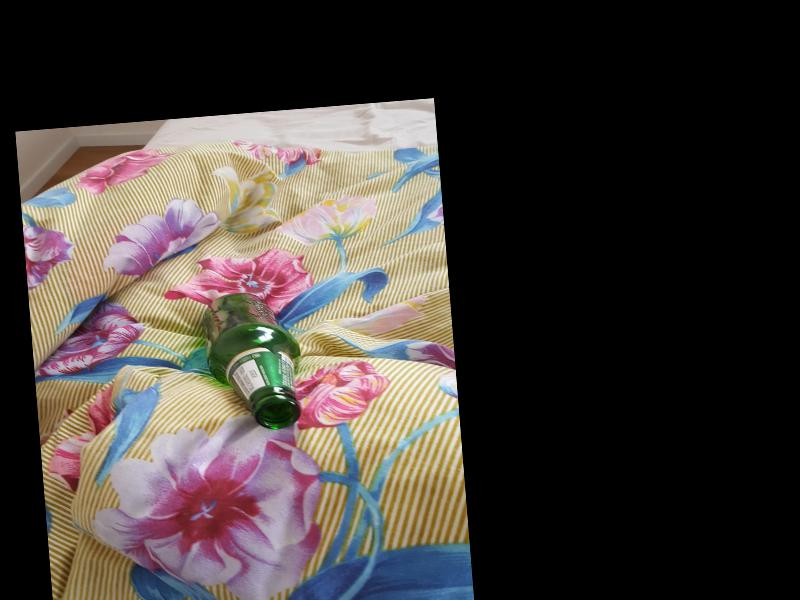Beer: (205, 289, 305, 434)
